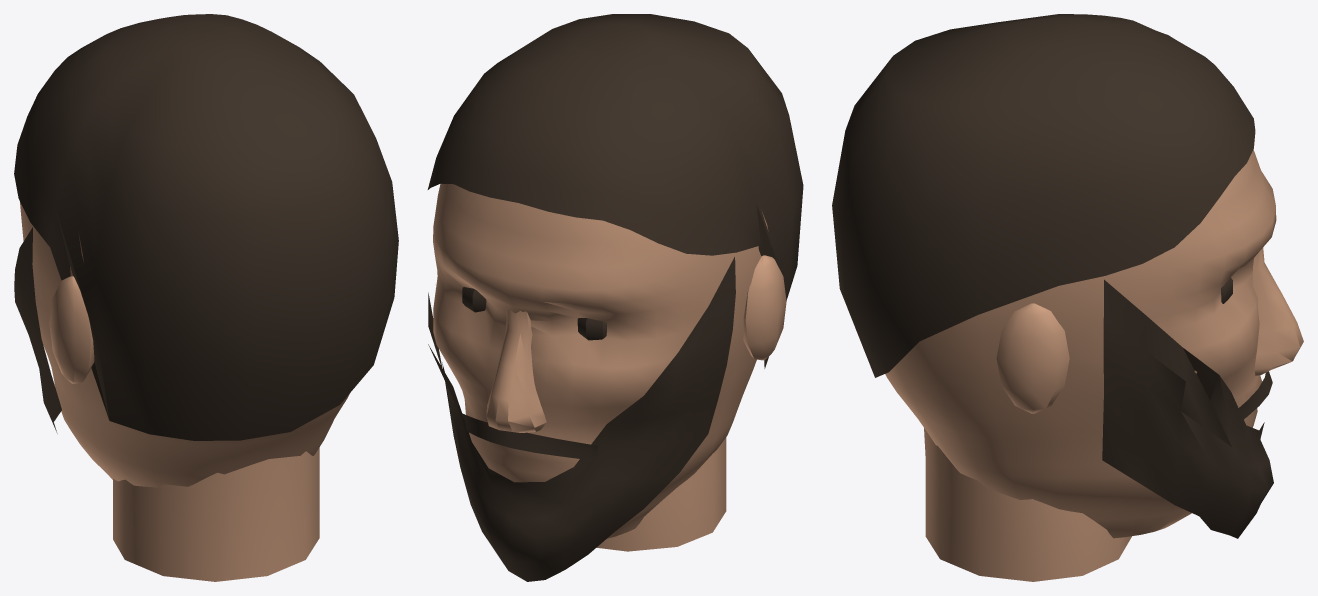
File: head_b.glb
3 views of the same model, side by side, from view 1: azimuth 30°, elevation 25°; view 2: azimuth 150°, elevation 25°; view 3: azimuth 270°, elevation 25° (orthographic). The views are drawn at different scales.
Parts seen in each view (by area): view 1: OUT; view 2: OUT; view 3: OUT.
Boxes of the visible parts, left/top/right/bottom form: OUT: left=14, top=14, right=398, bottom=581; OUT: left=427, top=14, right=803, bottom=581; OUT: left=832, top=14, right=1303, bottom=581.
Size of the model in its own units: 0.1748 by 0.258 by 0.2195.
